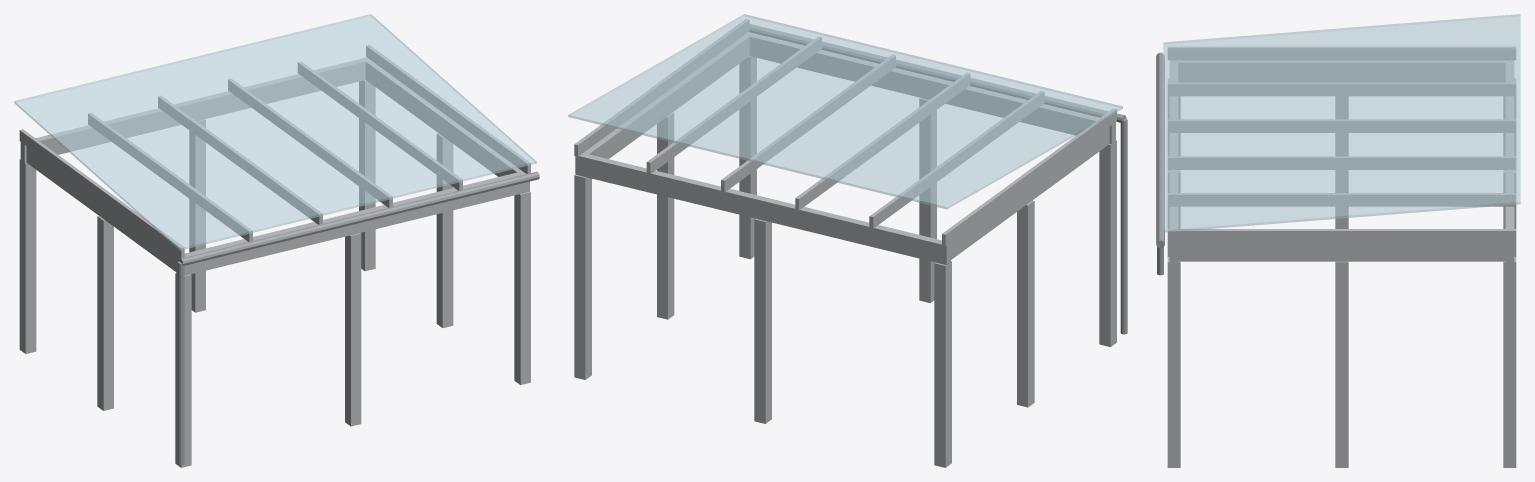
The picture shows the model from 3 angles, left to right: view 1: azimuth 30°, elevation 25°; view 2: azimuth 150°, elevation 25°; view 3: azimuth 270°, elevation 25°; orthographic projection. The views are drawn at different scales.
Visible parts, largest first — view 1: structure.terrace_roof (×3), aluminium (×14); view 2: structure.terrace_roof (×3), aluminium (×14); view 3: structure.terrace_roof (×3), aluminium (×10).
Boxes of the visible parts, x1=… form: structure.terrace_roof (×3): x1=14, y1=14, x2=539, y2=465; aluminium (×14): x1=19, y1=45, x2=530, y2=467; structure.terrace_roof (×3): x1=568, y1=14, x2=1127, y2=334; aluminium (×14): x1=574, y1=19, x2=1116, y2=467; structure.terrace_roof (×3): x1=1156, y1=14, x2=1520, y2=275; aluminium (×10): x1=1167, y1=47, x2=1516, y2=467.
Bounding box in the file's own units: 5.14 × 4.18 × 3.39.
